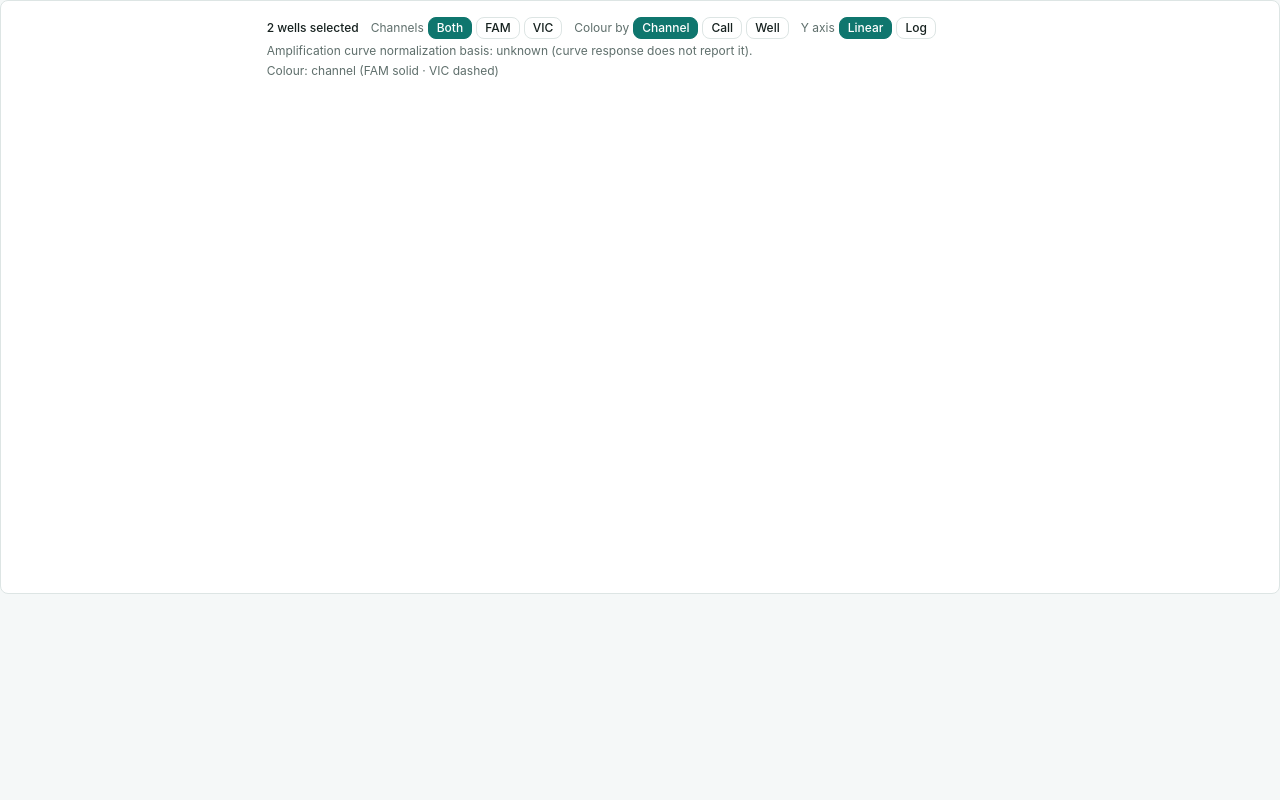
it: states the active colour basis in one caption, with the real channel labels
The image size is (1280, 800).
Click the button with test id "curve-colour-basis-call" at point(722, 28), box [702, 17, 742, 39]
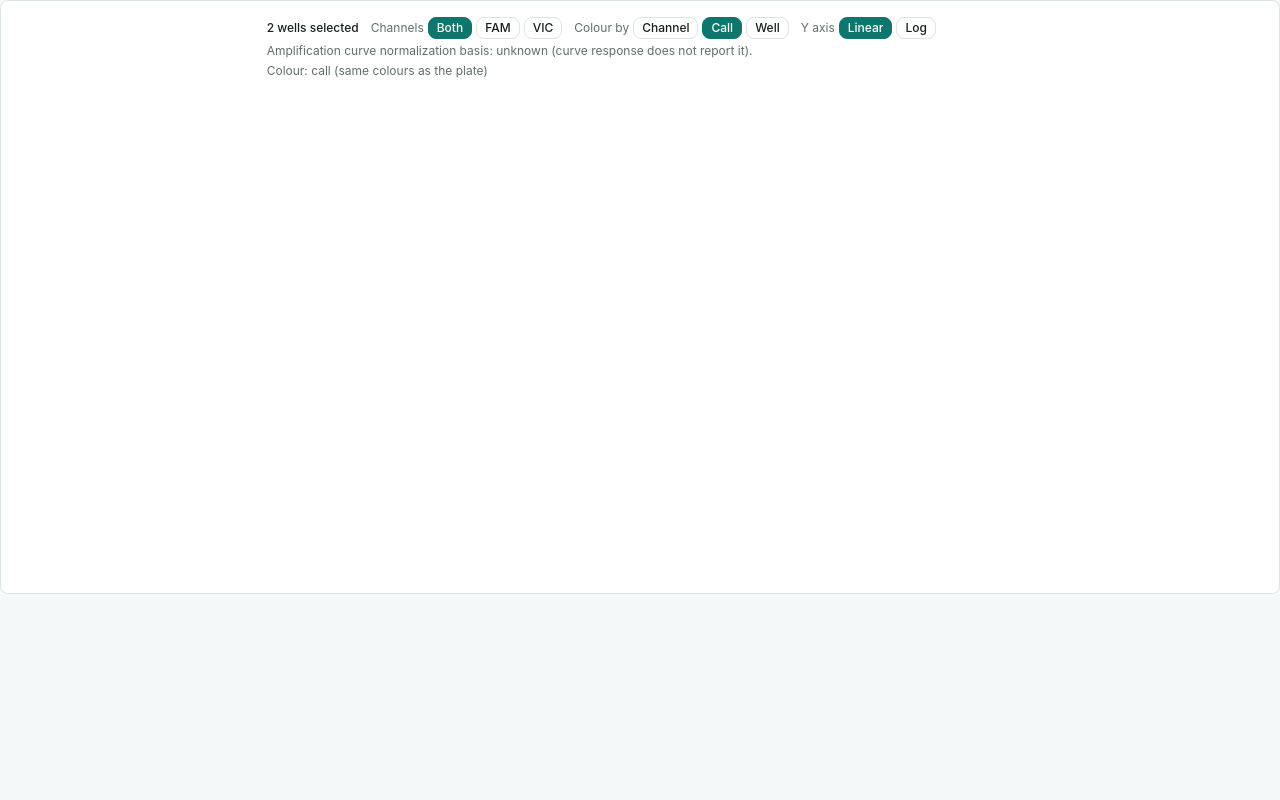
Check: the text with test id "curve-colour-caption" reads "Colour: call (same colours as the plate)", box [267, 63, 488, 78]
Click the button with test id "curve-colour-basis-well" at point(767, 28), box [746, 17, 789, 39]
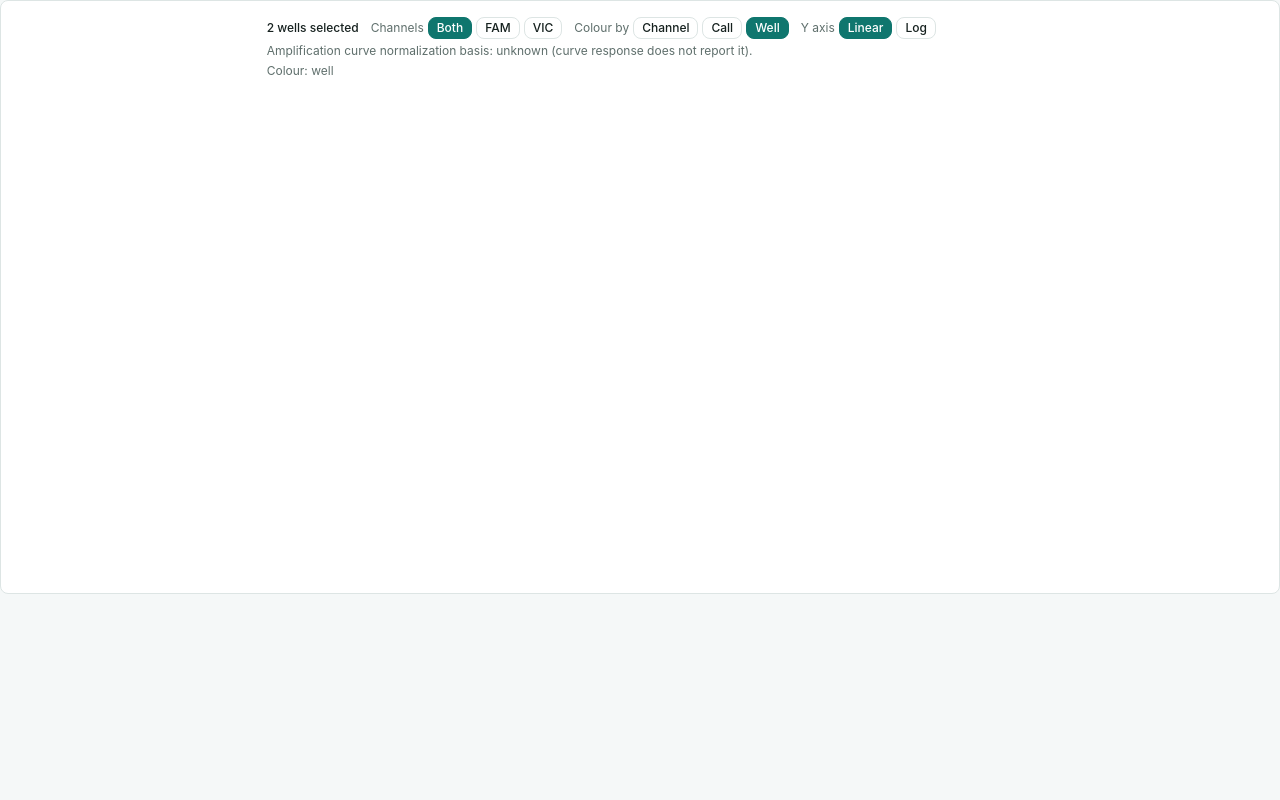
Check: the number of elements with test id "curve-colour-caption" is 1, box [267, 63, 334, 79]
Check: the text with test id "curve-colour-caption" reads "Colour: well", box [267, 63, 334, 78]
